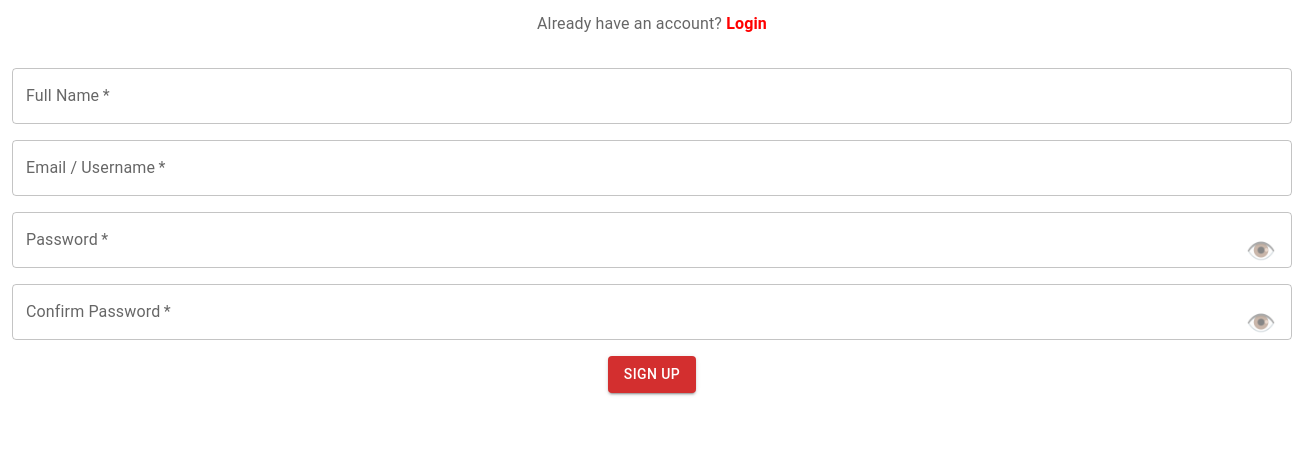
Test: SignupForm › shows error and prevents signup if user already exists
This screenshot has width=1304, height=453.
Fill form with existing email
Type "John Doe" into the field with placeholder "Enter your full name" at (652, 96), box [12,68,1292,124]
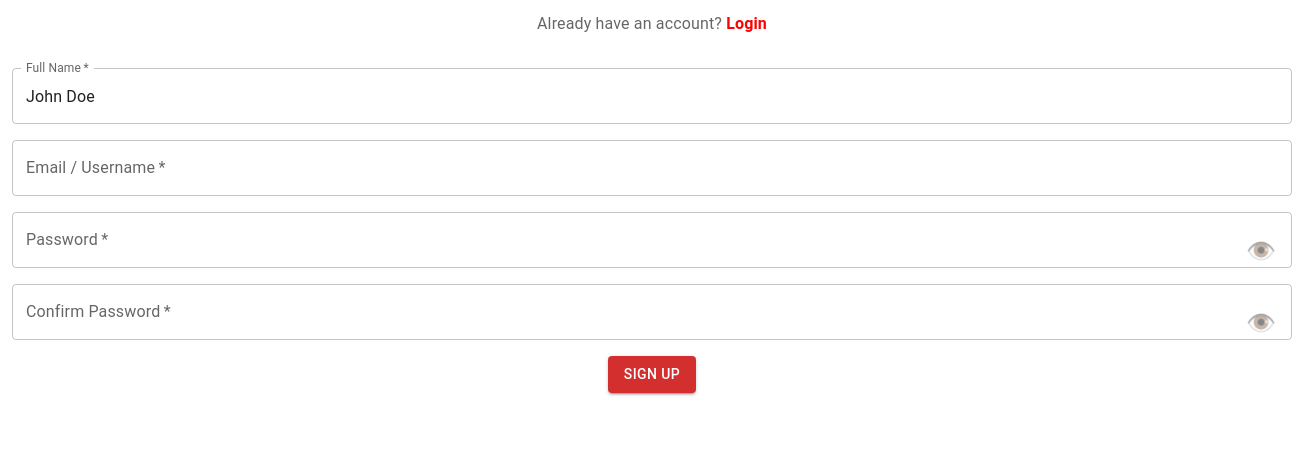
Type "john@example.com" into the field with placeholder "Enter email or username" at (652, 168), box [12,140,1292,196]
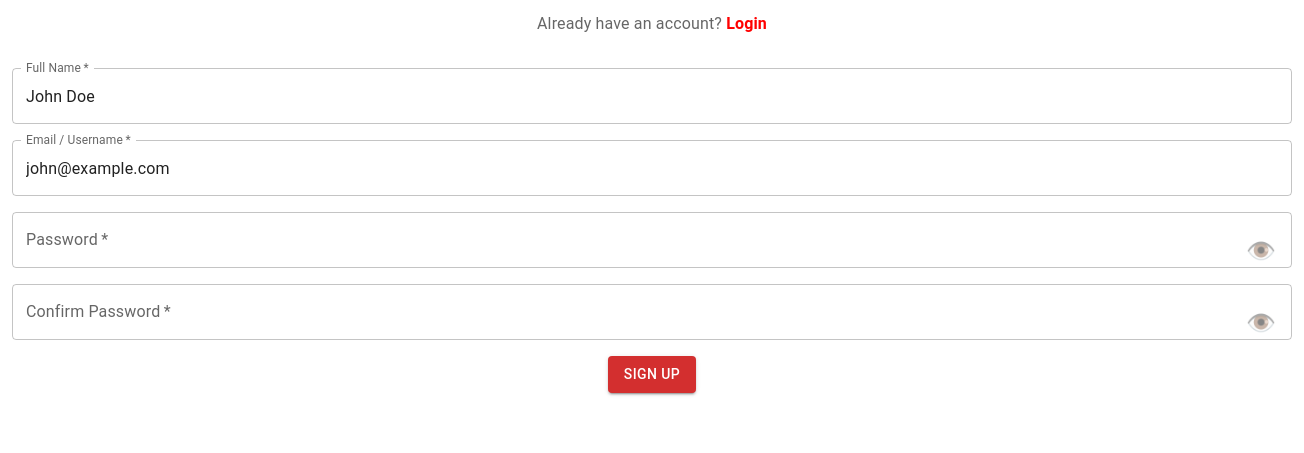
Type "password123" into the password field with placeholder "Create a password" at (652, 240), box [12,212,1292,268]
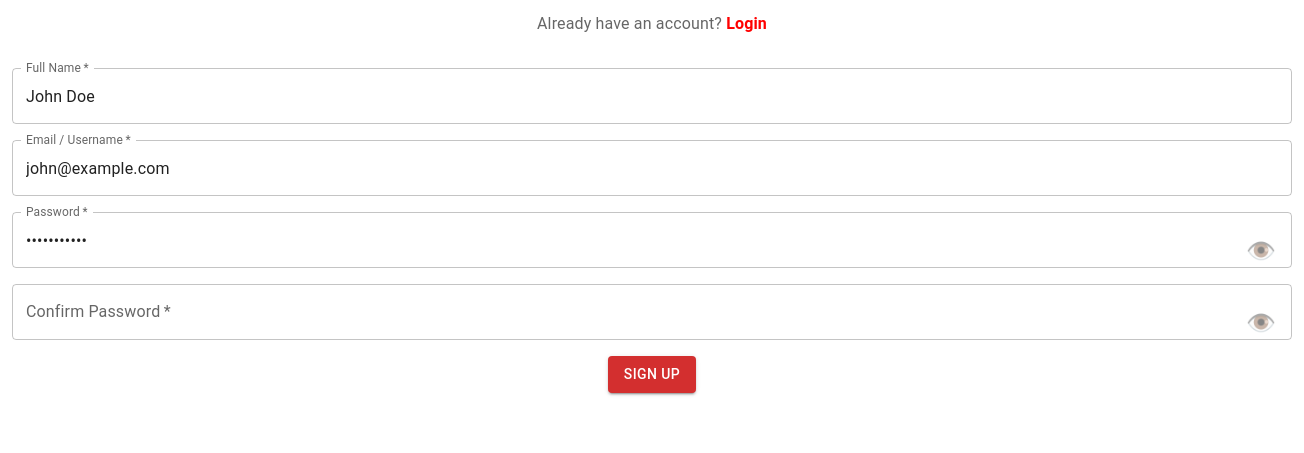
Type "password123" into the password field with placeholder "Re-enter password" at (652, 312), box [12,284,1292,340]
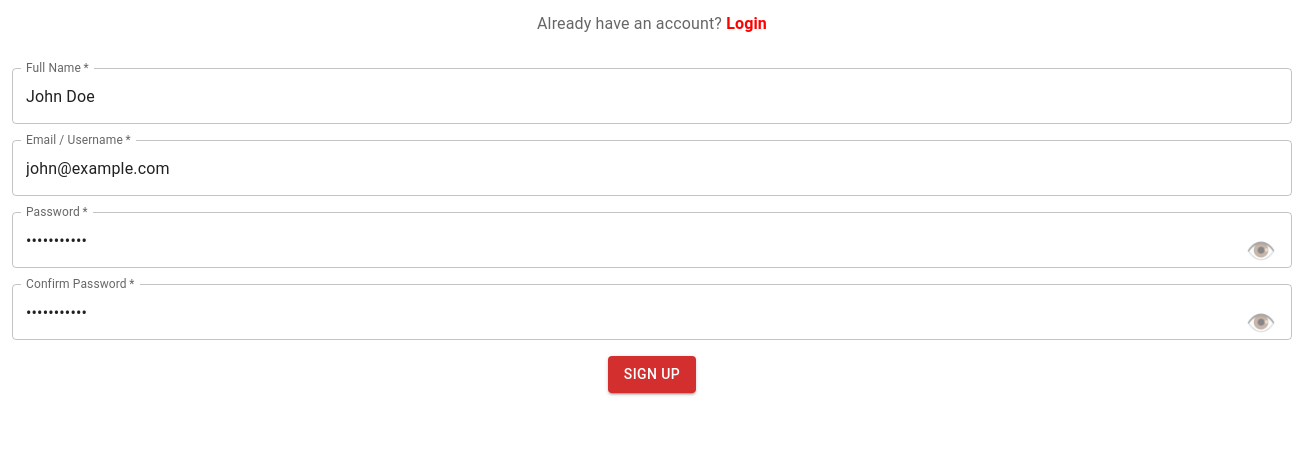
Click the button "Sign Up" at (652, 374), box [608,356,696,392]
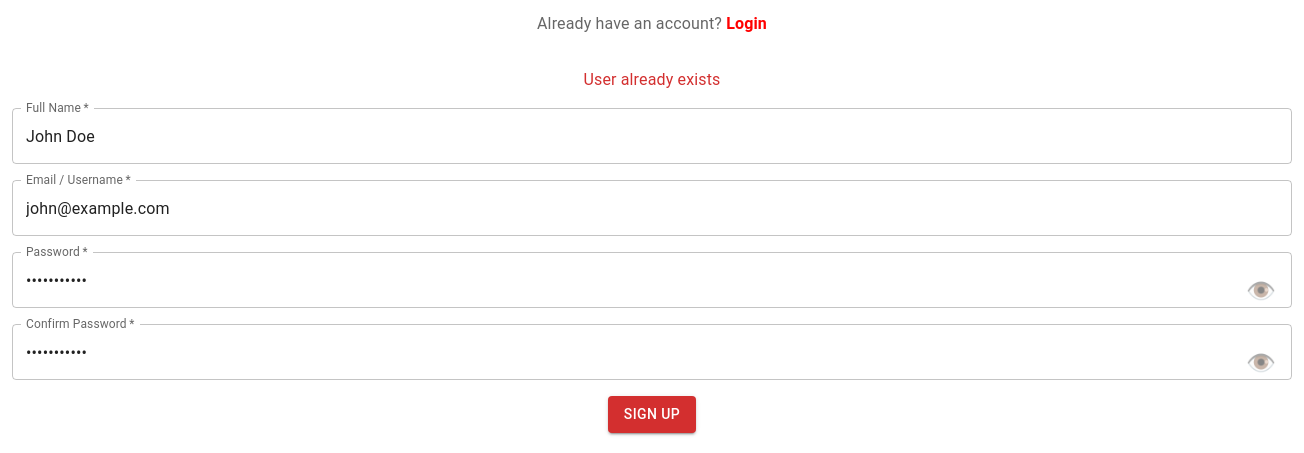
Expected: the text "User already exists" is shown, [584,70,720,89]
